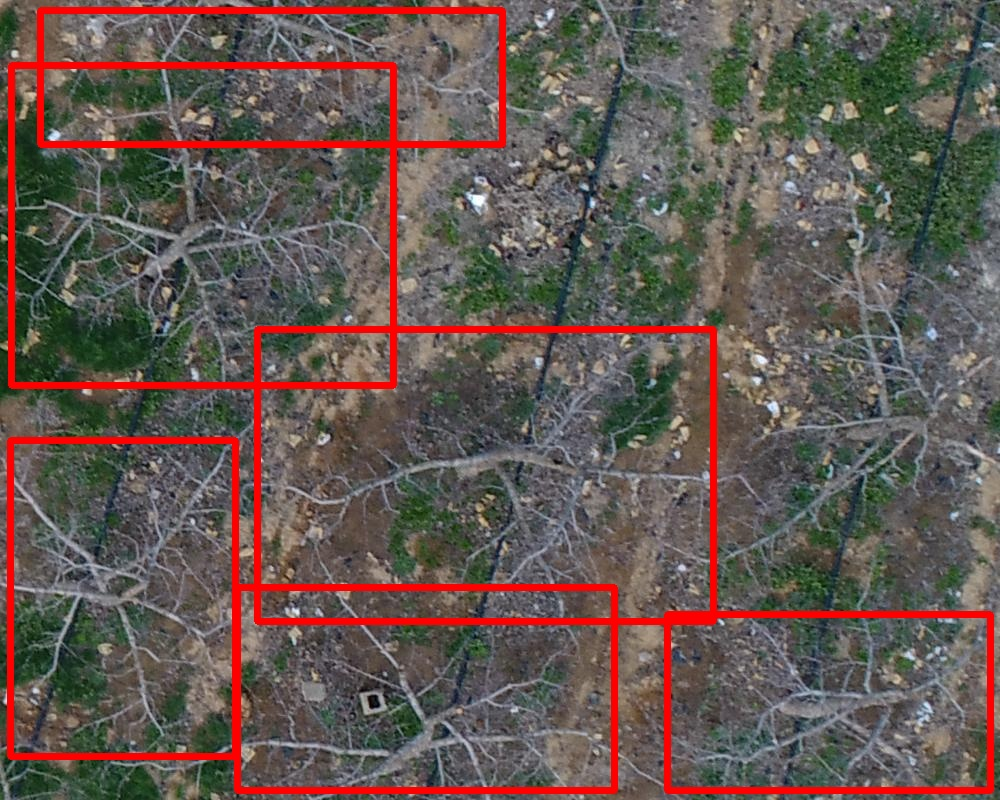apple: (257, 329, 713, 621), (11, 65, 393, 385), (237, 587, 614, 790), (10, 440, 235, 756), (40, 10, 502, 144), (667, 614, 990, 790)
